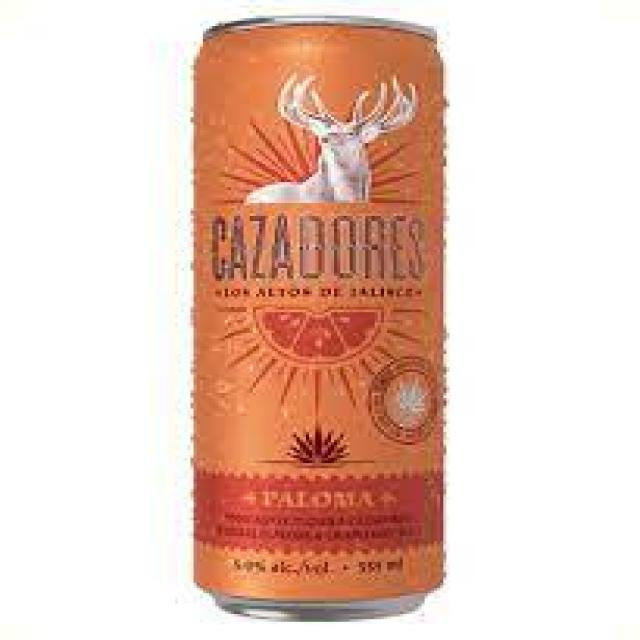Cans: (181, 2, 462, 630)
